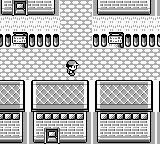leer: (12, 32, 28, 47), (109, 32, 124, 47)
main: (66, 61, 79, 75)
no-caminable: (31, 81, 88, 143), (96, 81, 152, 143), (0, 80, 25, 143), (97, 0, 151, 15), (125, 34, 159, 47), (27, 0, 55, 15), (29, 34, 59, 47), (0, 0, 13, 16), (93, 34, 107, 47), (0, 34, 11, 47)
puerta: (14, 1, 26, 15), (46, 129, 57, 142)
